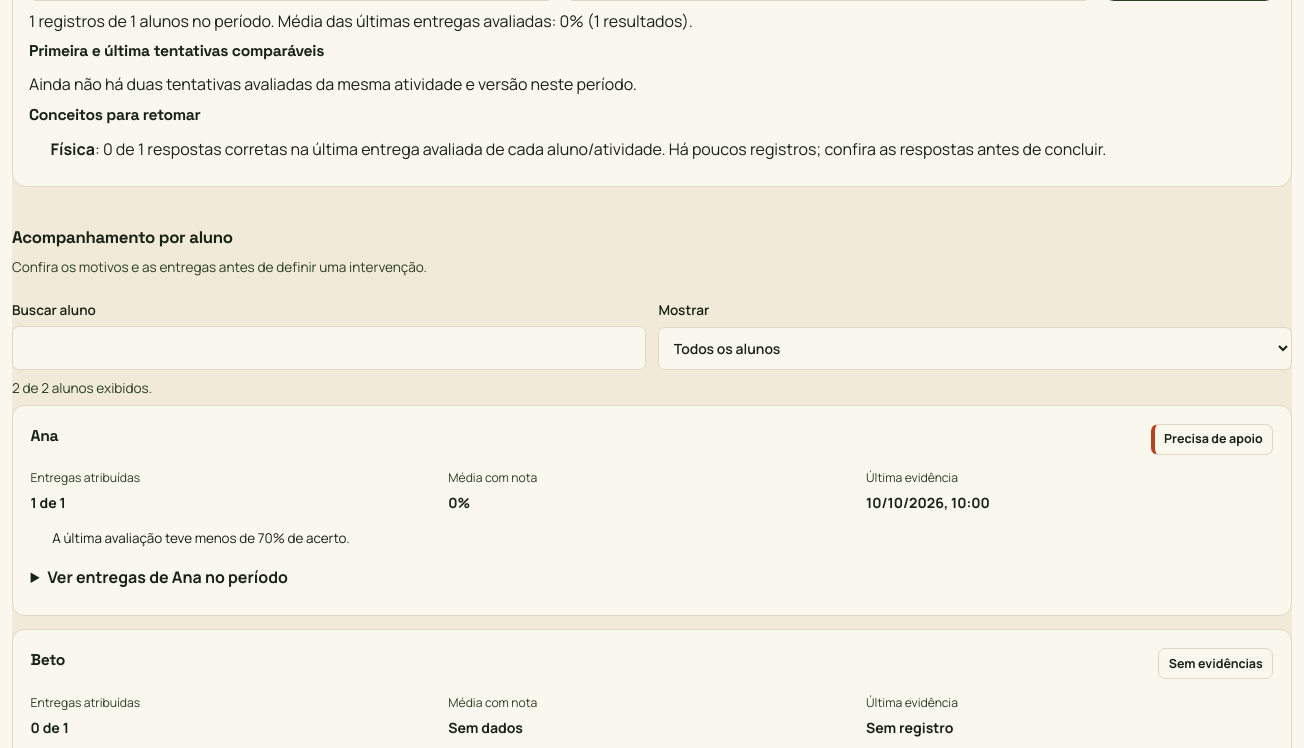
Test: leitura docente das evidências consolidadas › permite buscar alunos e examinar respostas, hipótese e reflexão preservadas
(page scrolled)
Type "ana" into the search field labelled "Buscar aluno".
click(329, 348); type("ana")  # box [12,326,646,370]
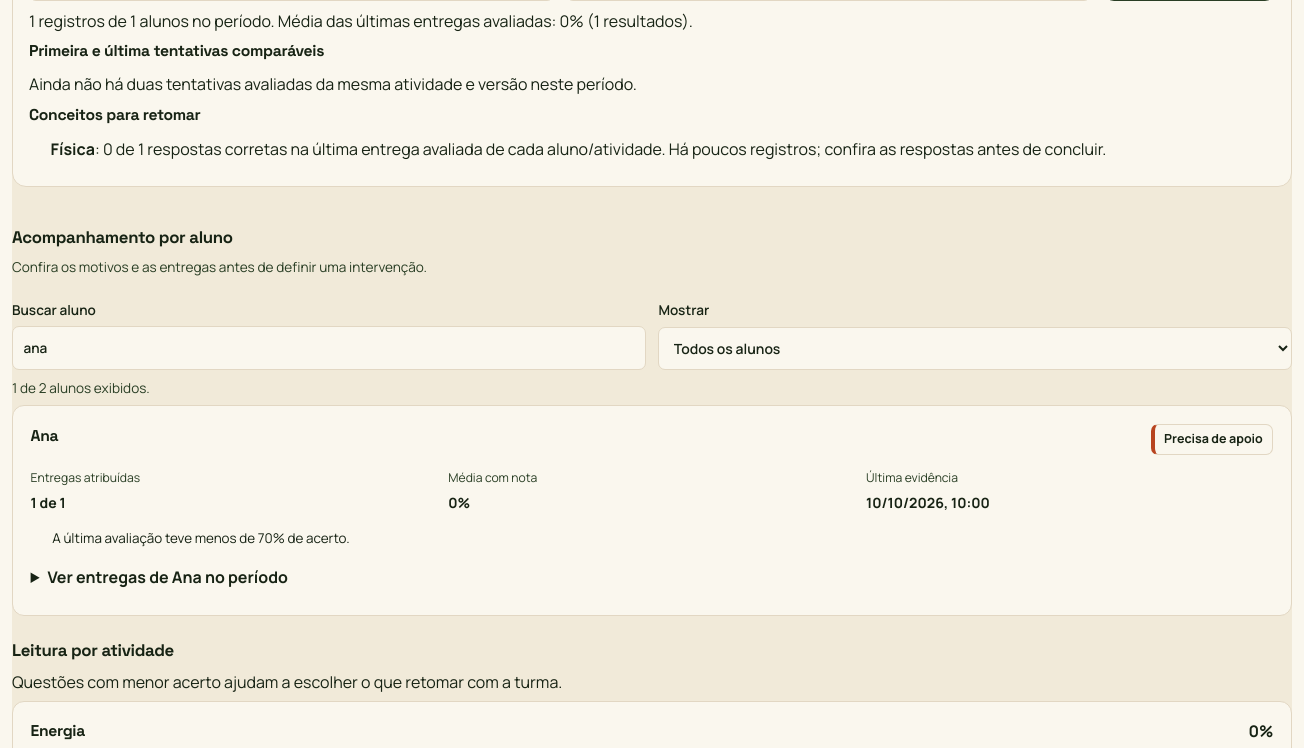
Now the heading "Beto" is gone
Click the heading "Ver entregas de Ana no período".
click(168, 577)  # box [48,566,288,588]
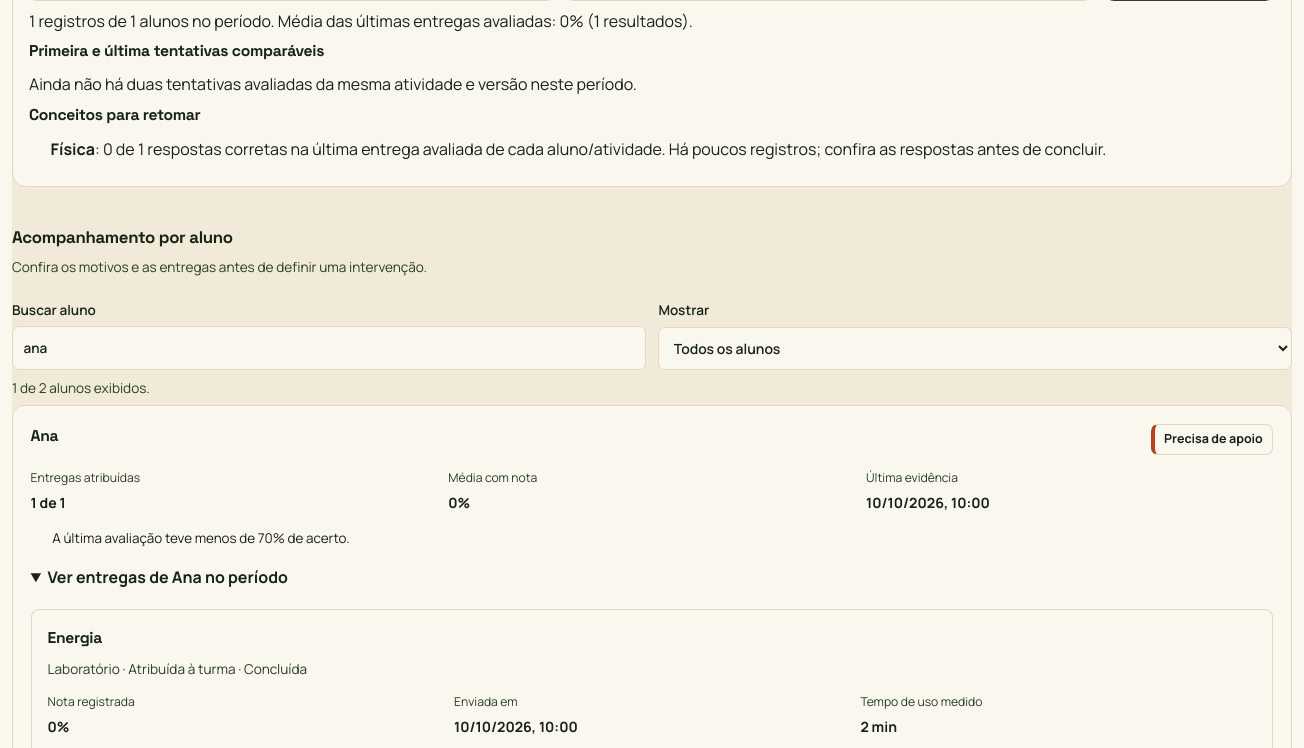
Select "Sem evidências" in the dropdown labelled "Mostrar" at (975, 348), box [658,326,1292,370]
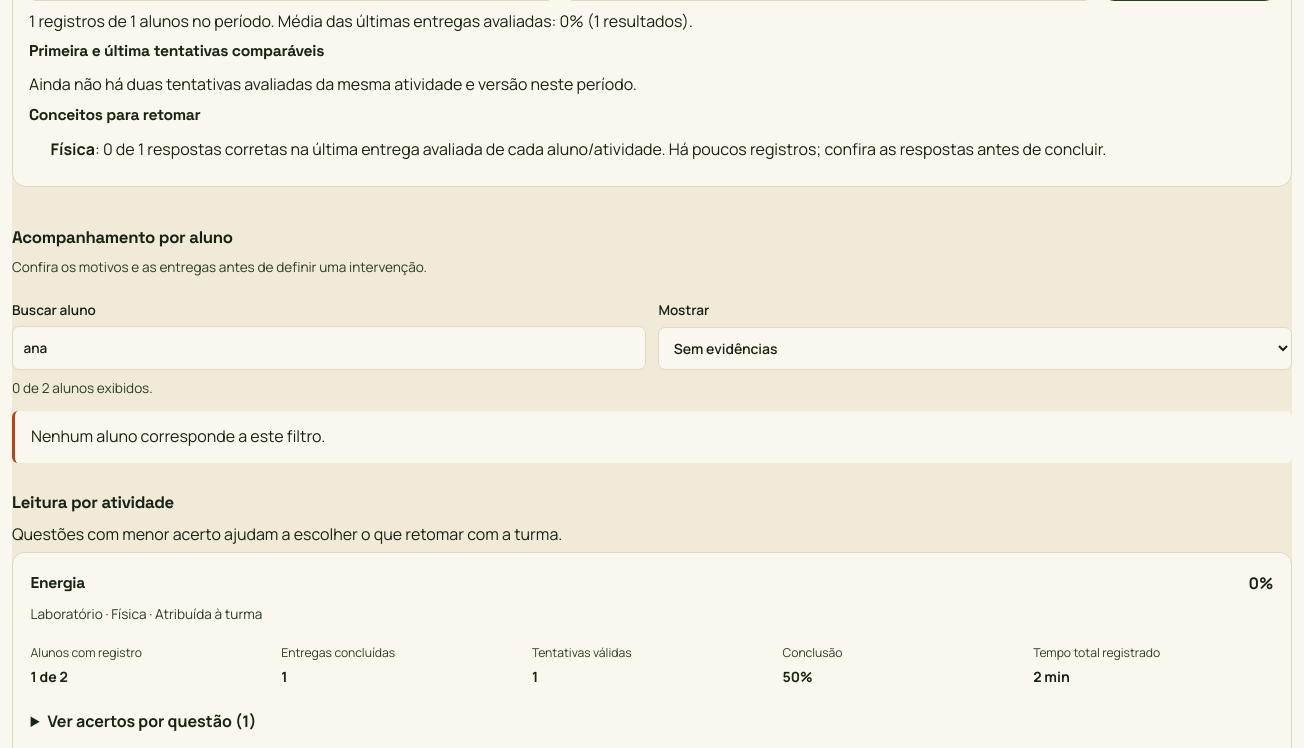
Now the text "Nenhum aluno corresponde a este filtro." is shown, box [12,411,1292,463]
